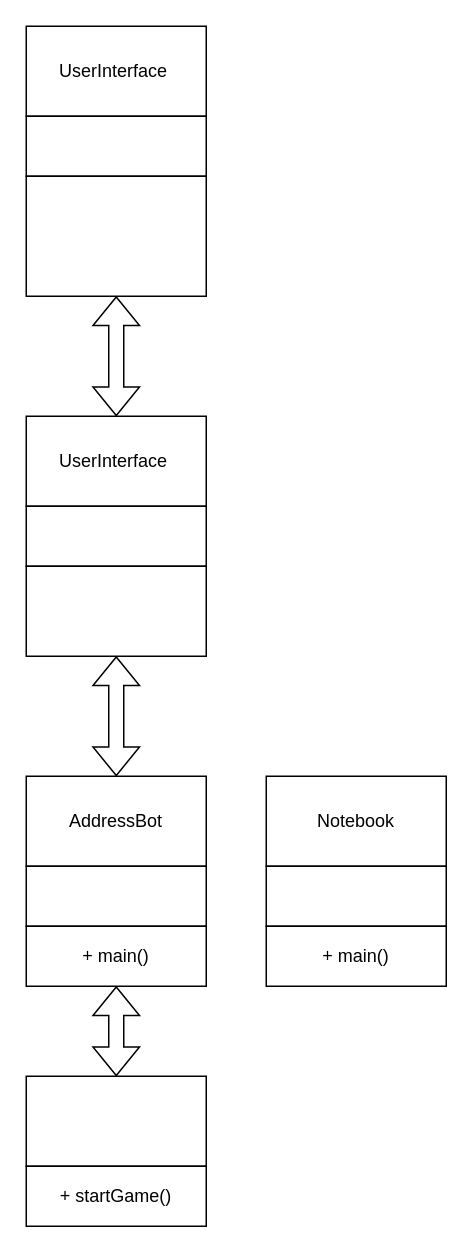
The diagram is 473 pixels wide and 1253 high, and some of its shapes have lost their labels. Here are the shapes that lost their labels. From the top down, the centre of each, then its label:
[115,235]: + show_message() + show_menu() + get_input()
[115,610]: + show_menu() + get_input()
[115,1120]: mygame.main
